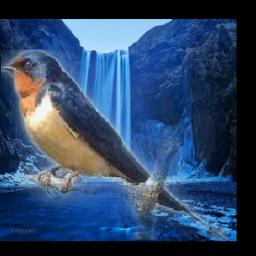Swallow: (2, 50, 230, 240)
